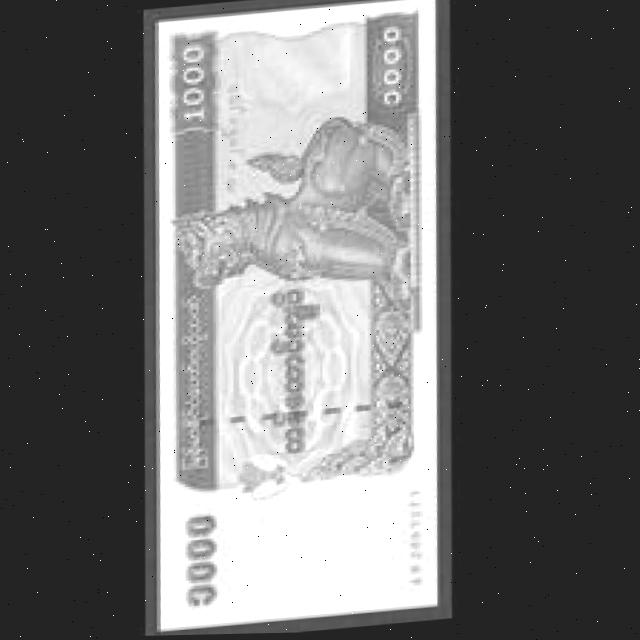banknote: (123, 5, 478, 634)
